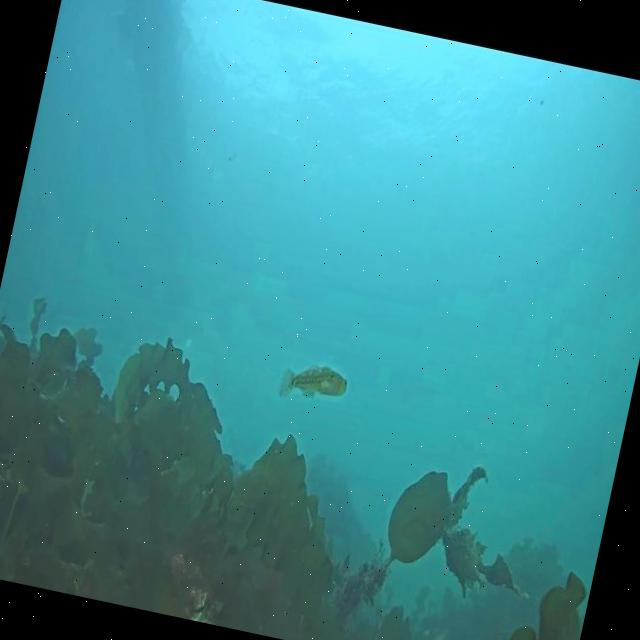fish: (281, 364, 348, 404)
